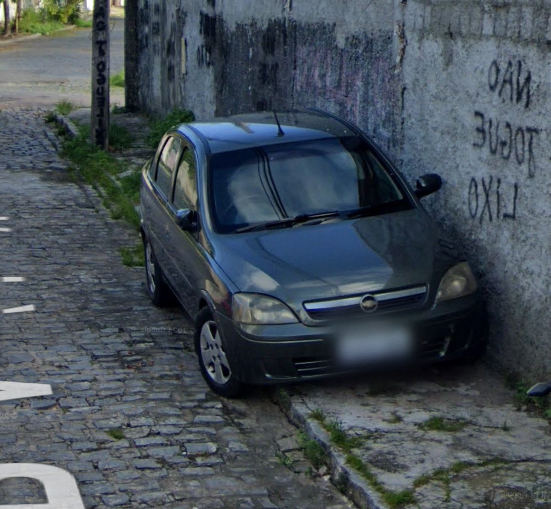car: (135, 101, 493, 401)
